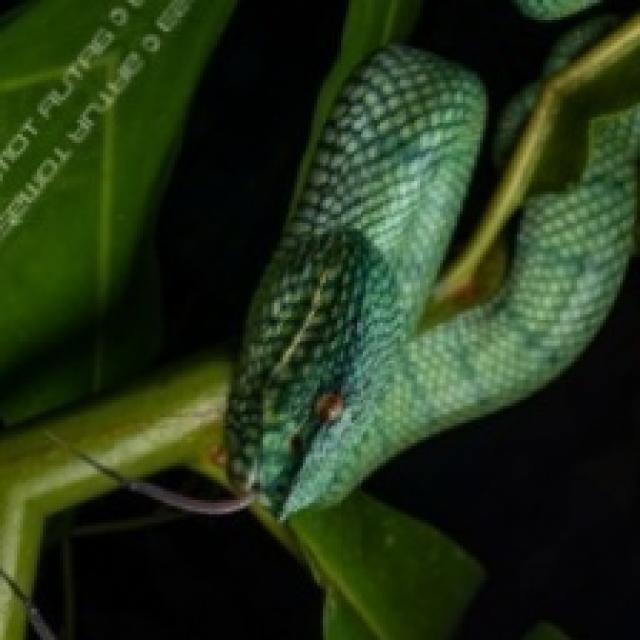north ph temple pitviper: (229, 17, 637, 514), (0, 0, 343, 423), (363, 254, 637, 637), (409, 0, 637, 246), (34, 491, 320, 637)
